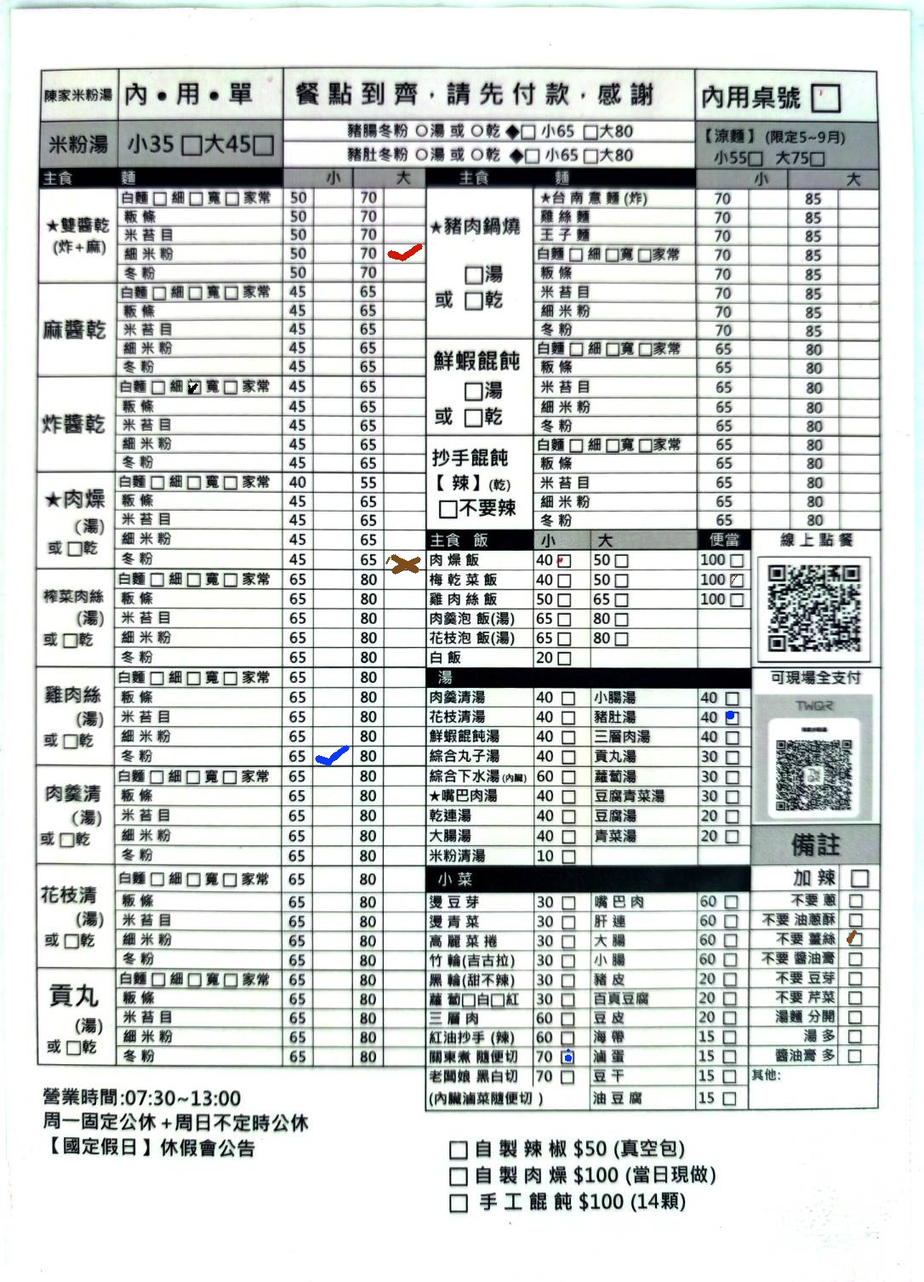marked_circle: (726, 712, 737, 724), (562, 1050, 573, 1062)
marked_number_7: (732, 574, 743, 586)
marked_tick: (385, 243, 423, 263), (313, 746, 351, 765), (190, 381, 201, 393), (849, 934, 860, 946)
marked_x: (386, 549, 424, 569)
